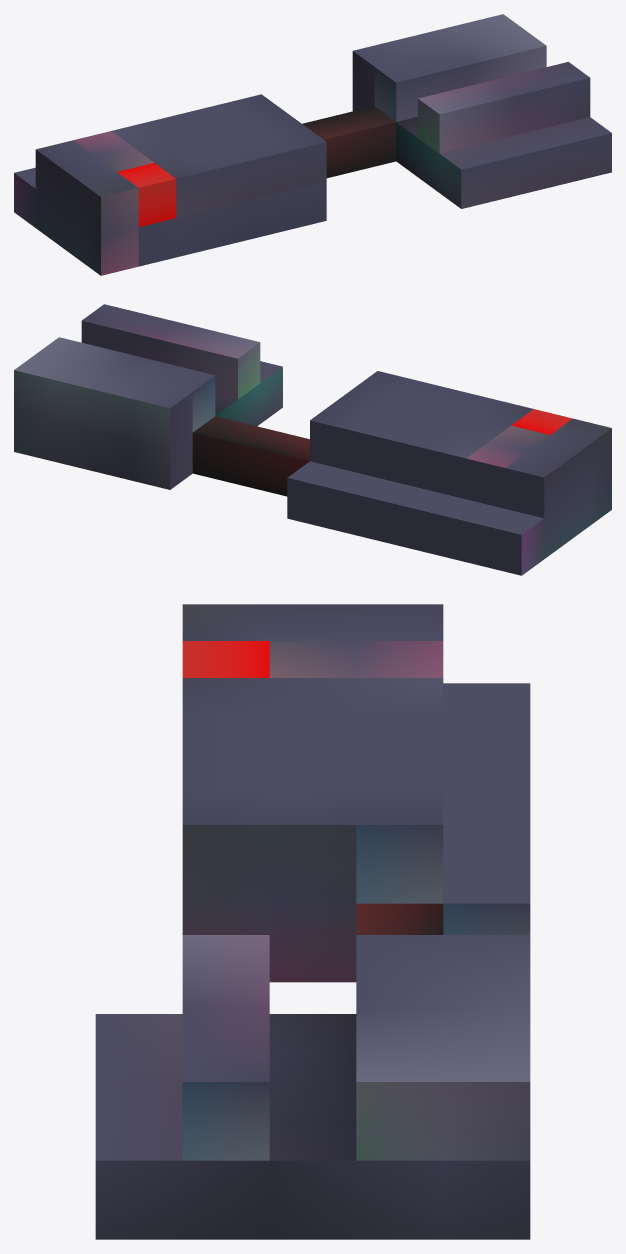
File: Device_D_00.fbx
3 renders of one model, top to bottom at view 1: azimuth 30°, elevation 25°; view 2: azimuth 150°, elevation 25°; view 3: azimuth 270°, elevation 25°, orthographic. The views are drawn at different scales.
Parts seen in each view (by area): view 1: Device_D_00; view 2: Device_D_00; view 3: Device_D_00.
Part boxes in pixels (x1,y1,x2,y2): Device_D_00: (14, 14, 611, 275); Device_D_00: (14, 304, 611, 575); Device_D_00: (95, 604, 530, 1239).
Bounding box in the file's own units: 65 × 10 × 25.
